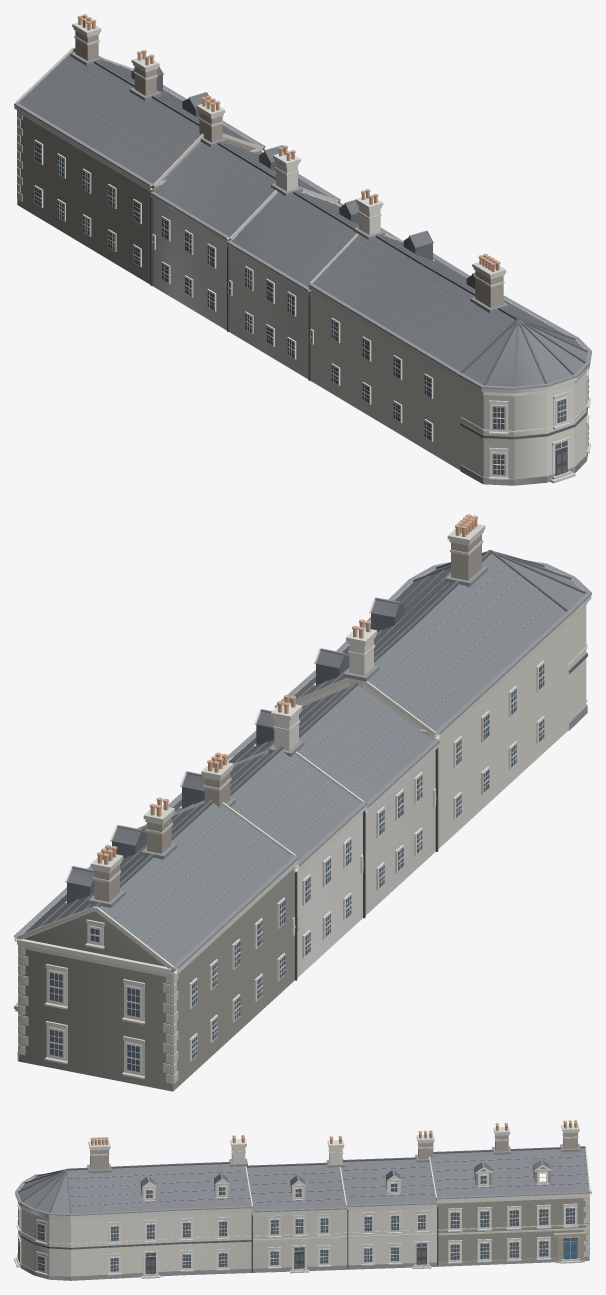
3 renders of one model, top to bottom at view 1: azimuth 30°, elevation 25°; view 2: azimuth 150°, elevation 25°; view 3: azimuth 270°, elevation 25°, orthographic. The views are drawn at different scales.
Parts seen in each view (by area): view 1: slate003, harl_cream003, rubble003, frame003, harl_grey003, harl003, lead003, slate_dk003, string003, slate_lt003, dress_cream003, chim_stone003 (+4 smaller); view 2: slate003, rubble003, harl_cream003, frame003, dress_cream003, slate_dk003, lead003, harl_grey003, harl003, string003, slate_lt003, chim_stone003 (+3 smaller); view 3: slate003, harl_cream003, frame003, rubble003, dress_cream003, string003, harl_grey003, harl003, plinth003, lead003, slate_lt003, slate_dk003 (+8 smaller).
Boxes of the visible parts, left/top/right/bottom form: slate003: left=18, top=51, right=587, bottom=386; harl_cream003: left=312, top=293, right=587, bottom=478; rubble003: left=17, top=116, right=261, bottom=286; frame003: left=34, top=62, right=589, bottom=477; harl_grey003: left=230, top=250, right=311, bottom=381; harl003: left=153, top=191, right=336, bottom=332; lead003: left=14, top=52, right=591, bottom=389; slate_dk003: left=73, top=48, right=587, bottom=386; string003: left=14, top=69, right=589, bottom=432; slate_lt003: left=28, top=60, right=558, bottom=361; dress_cream003: left=15, top=20, right=590, bottom=483; chim_stone003: left=75, top=31, right=503, bottom=313; slate003: left=23, top=553, right=584, bottom=965; rubble003: left=18, top=868, right=294, bottom=1091; harl_cream003: left=296, top=605, right=586, bottom=851; frame003: left=46, top=597, right=544, bottom=1075; dress_cream003: left=17, top=524, right=587, bottom=1083; slate_dk003: left=67, top=550, right=586, bottom=907; lead003: left=14, top=560, right=591, bottom=968; harl_grey003: left=362, top=752, right=434, bottom=917; harl003: left=294, top=814, right=362, bottom=980; string003: left=14, top=566, right=591, bottom=976; slate_lt003: left=37, top=563, right=552, bottom=954; chim_stone003: left=94, top=534, right=481, bottom=907; slate003: left=18, top=1148, right=589, bottom=1213; harl_cream003: left=18, top=1180, right=251, bottom=1276; frame003: left=17, top=1165, right=577, bottom=1274; rubble003: left=436, top=1167, right=589, bottom=1261; dress_cream003: left=14, top=1124, right=590, bottom=1278; string003: left=15, top=1139, right=591, bottom=1244; harl_grey003: left=253, top=1182, right=347, bottom=1268; harl003: left=348, top=1177, right=436, bottom=1264; plinth003: left=17, top=1253, right=589, bottom=1280; lead003: left=15, top=1143, right=589, bottom=1215; slate_lt003: left=68, top=1156, right=588, bottom=1205; slate_dk003: left=18, top=1146, right=585, bottom=1213.
Bounding box in the file's own units: 15.34 × 13.92 × 60.54.
